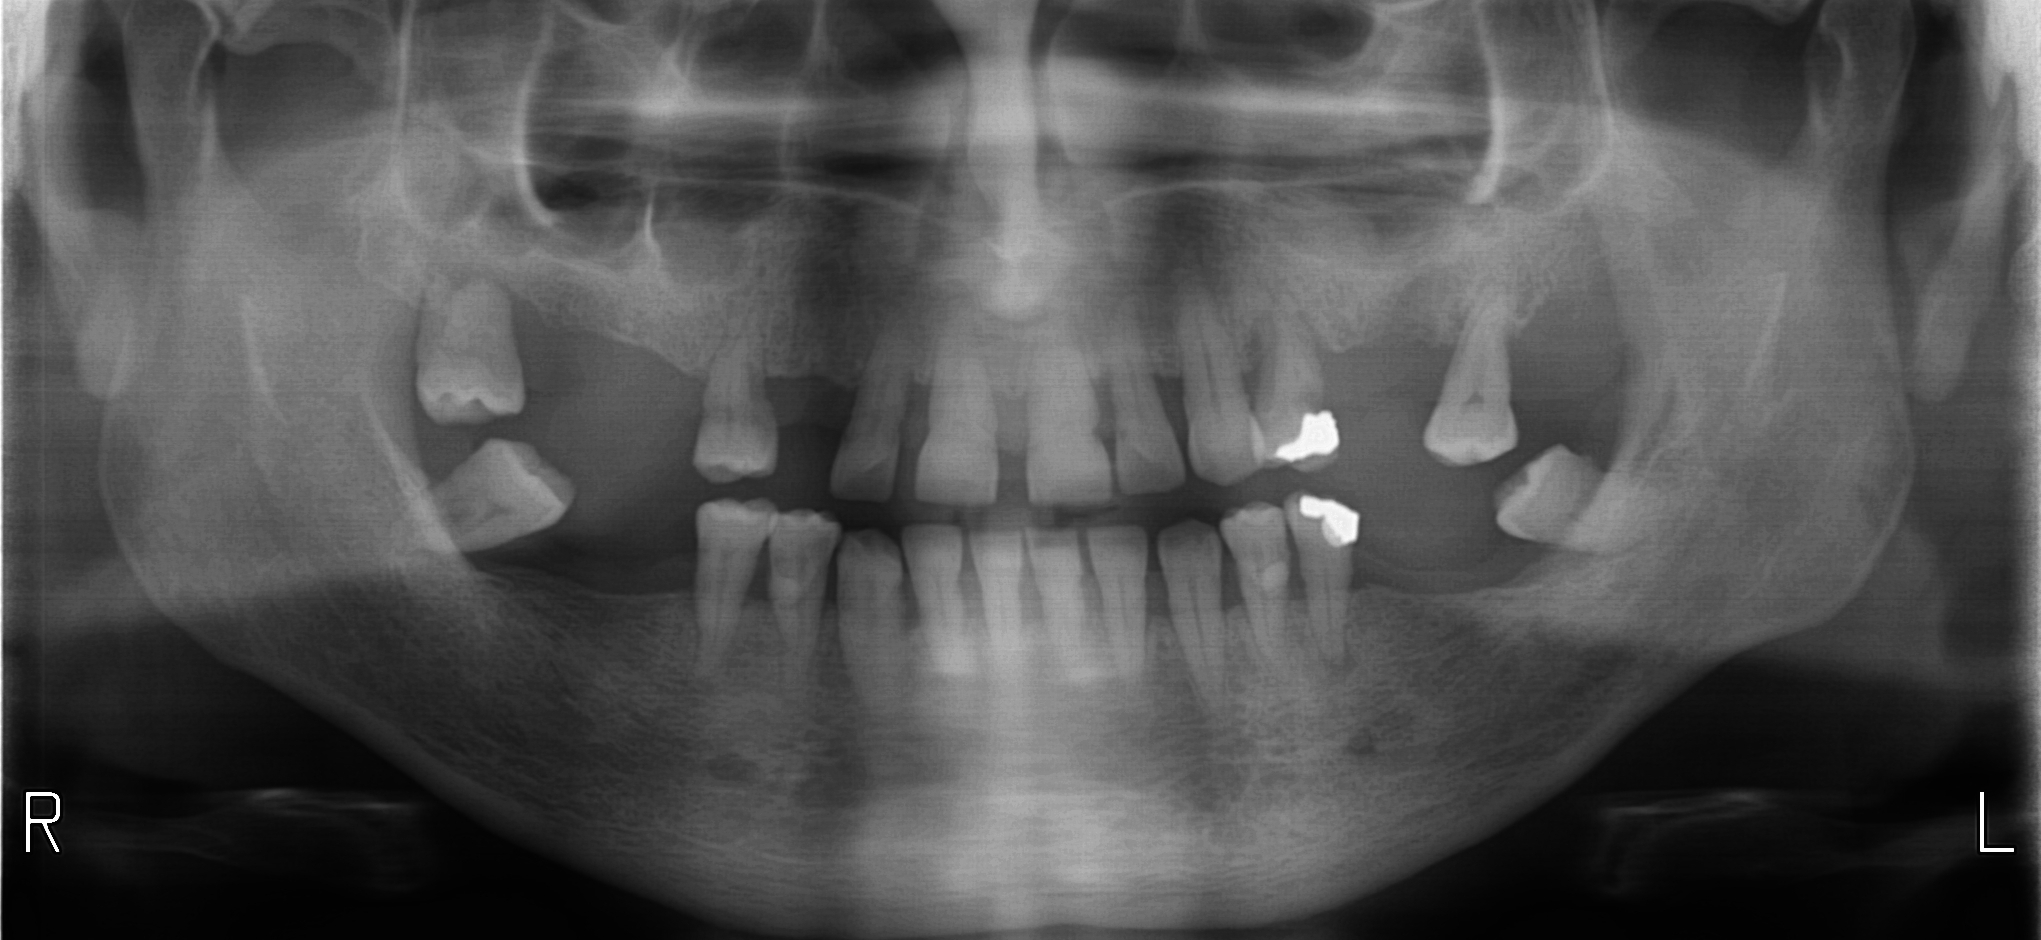cavity: (1093, 422, 1103, 439), (1116, 424, 1125, 440)
